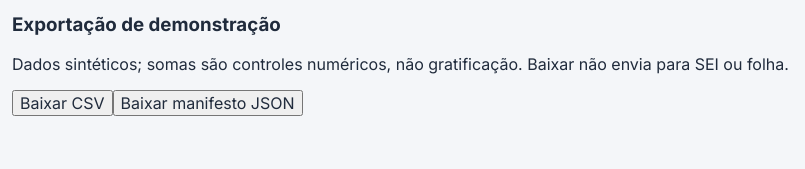
Test case: CAM export from durable checklist › rechecks access on every download and retries exactly the ambiguous operation
Later steps or results of the test are not shown.
Click the button "Baixar CSV" at (62, 103), box [12,90,113,116]
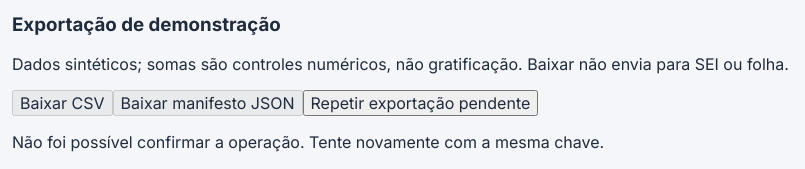
Expected: the button "Repetir exportação pendente" is shown, [302,90,538,116]
Expected: the button "Baixar manifesto JSON" is disabled, [113,90,303,116]
